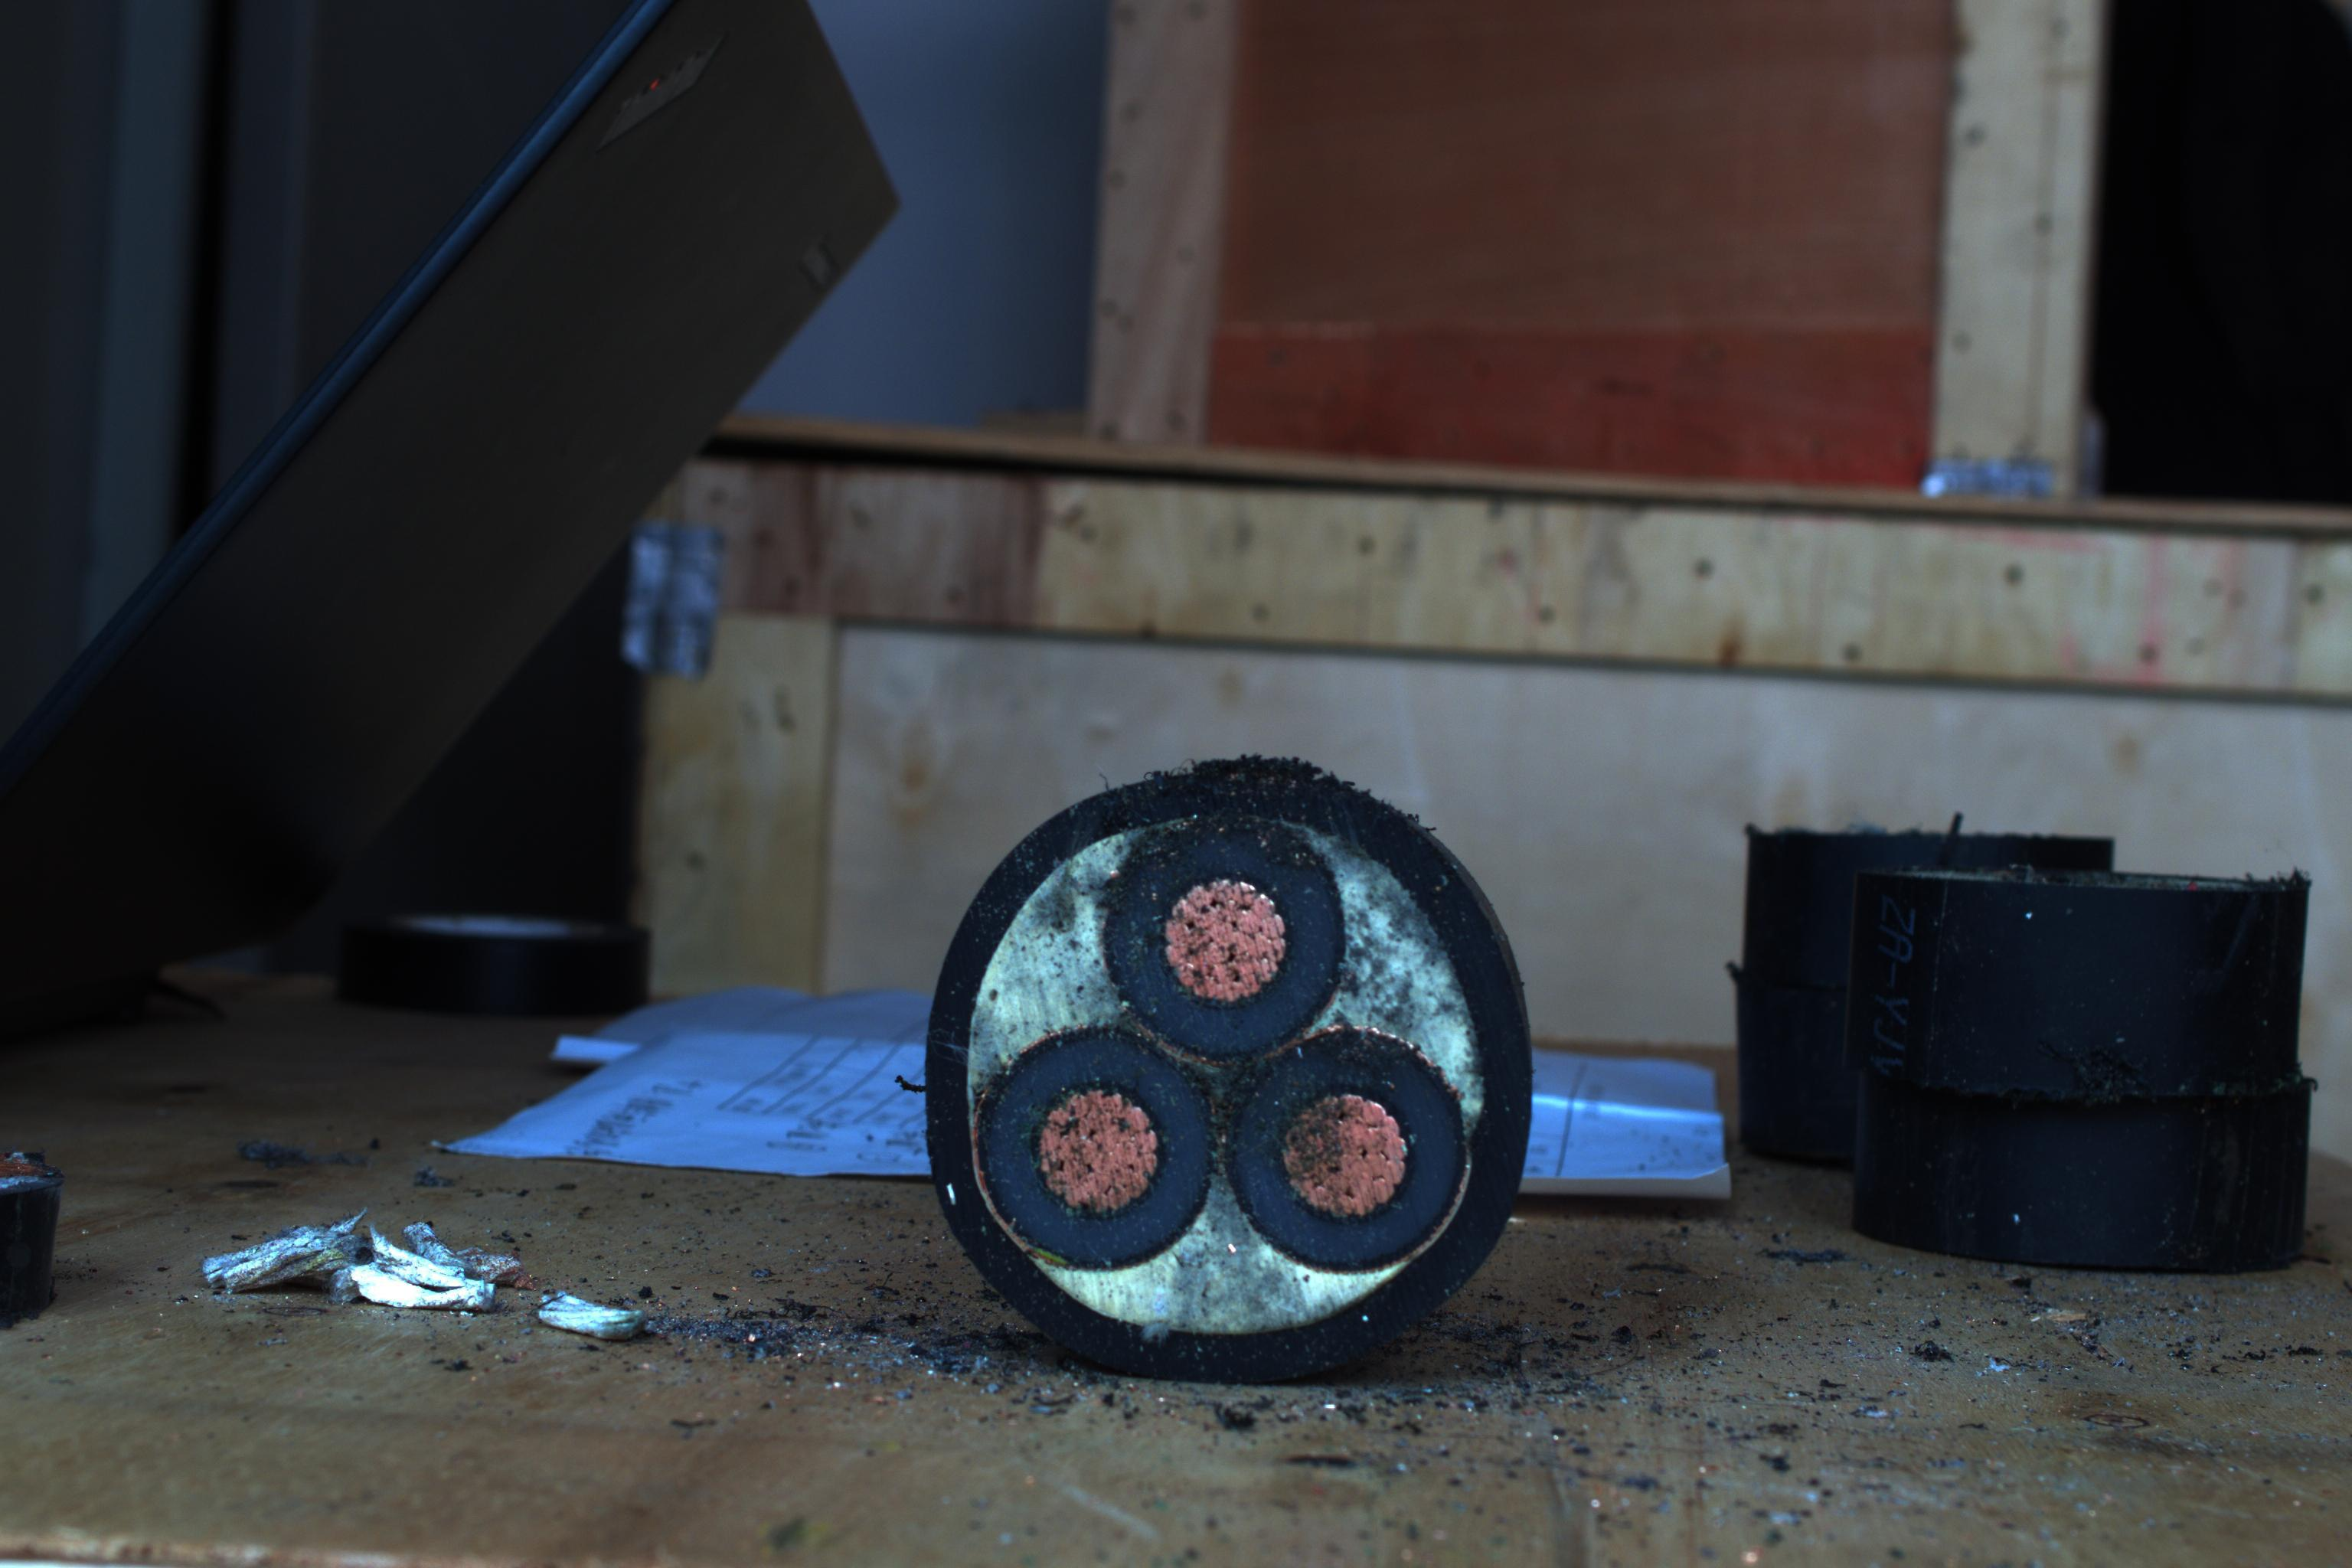ZA_YJV_8.7_10kV_3x120: (938, 777, 1521, 1354)
